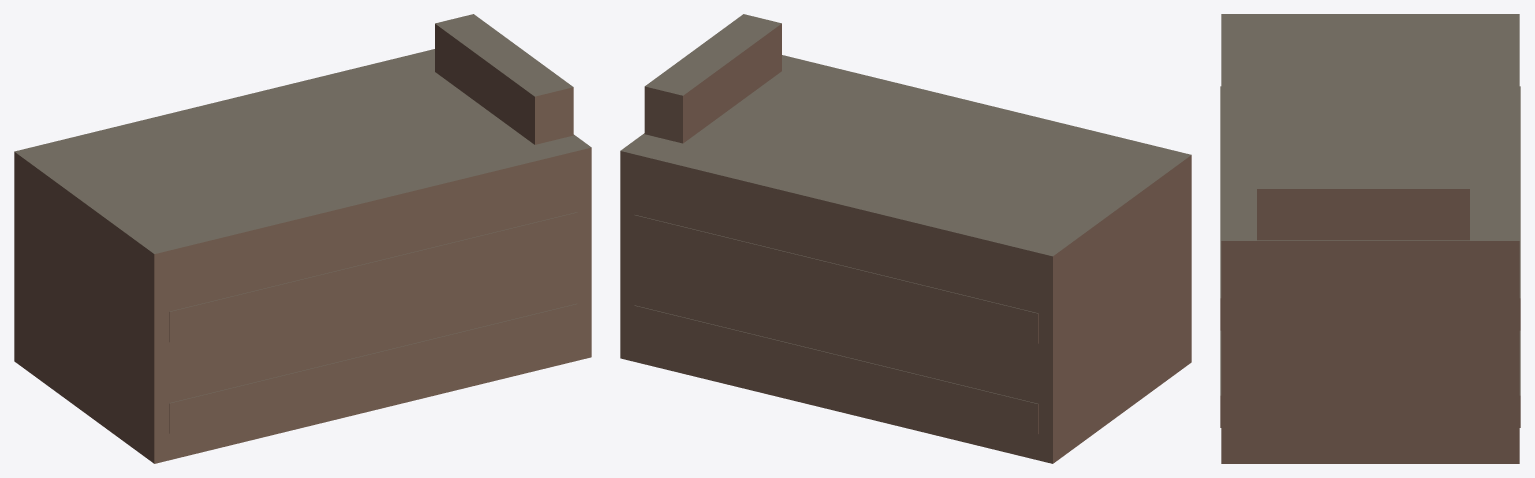
Rendered from ew-workshop.far-facades-v1.lod2.glb.
The picture shows the model from 3 angles, left to right: view 1: azimuth 30°, elevation 25°; view 2: azimuth 150°, elevation 25°; view 3: azimuth 270°, elevation 25°; orthographic projection. The views are drawn at different scales.
Visible parts, largest first — view 1: ew-workshop; view 2: ew-workshop; view 3: ew-workshop.
Boxes of the visible parts, x1,y1,x2,y2 form: ew-workshop: [14, 14, 591, 463]; ew-workshop: [620, 14, 1191, 463]; ew-workshop: [1220, 14, 1520, 463].
Bounding box in the file's own units: 18 × 10.15 × 10.06.
